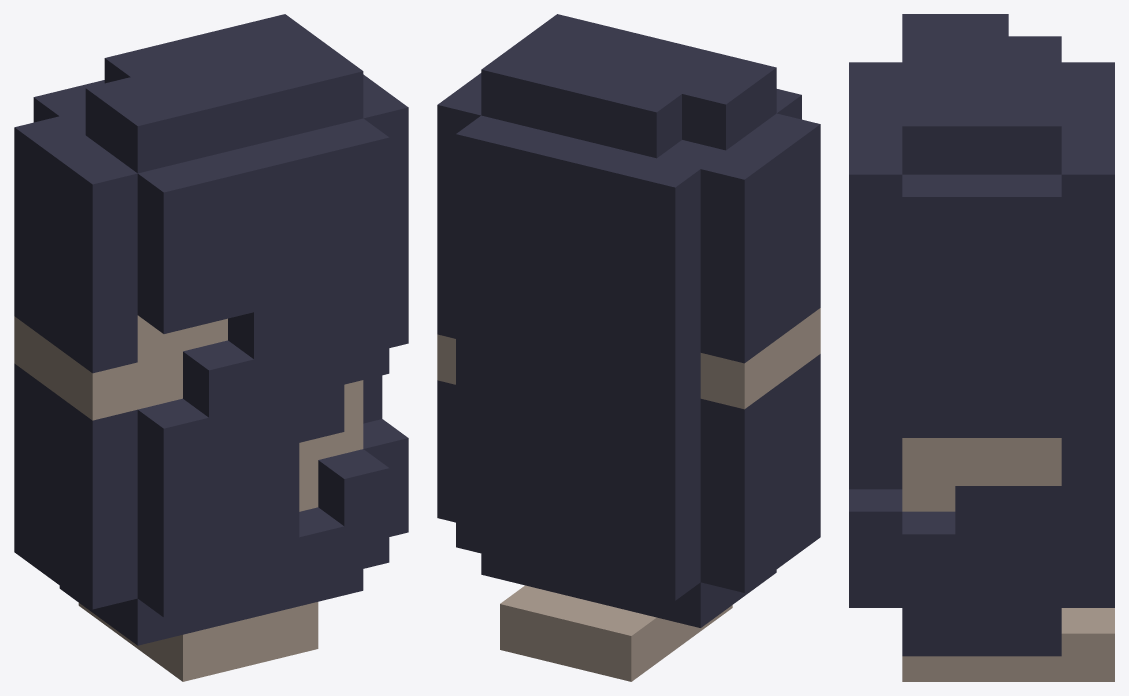
File: Leg_L_D.obj
3 renders of one model, left to right at view 1: azimuth 30°, elevation 25°; view 2: azimuth 150°, elevation 25°; view 3: azimuth 270°, elevation 25°, orthographic. The views are drawn at different scales.
Size of the model in its own units: 0.7 by 1.2 by 0.5.
1 material, 1 textured.
